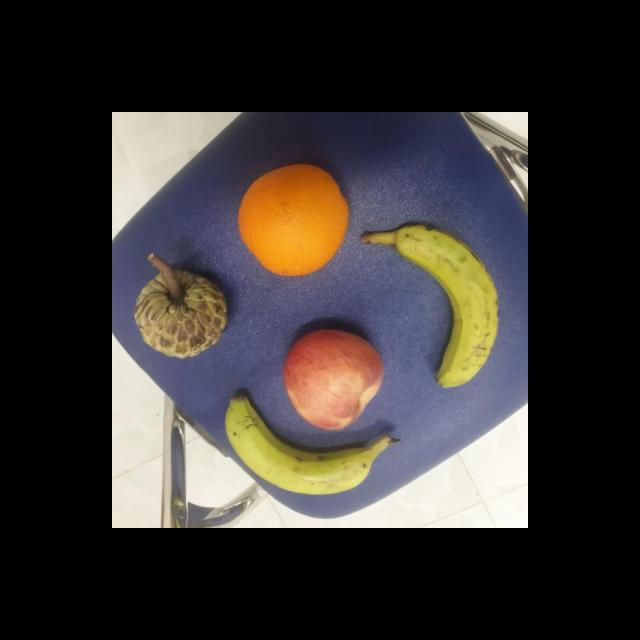Sakya fruit: (128, 264, 231, 363)
apple: (280, 321, 384, 434)
banana: (212, 392, 397, 504), (390, 218, 500, 390)
orange: (235, 162, 352, 276)
